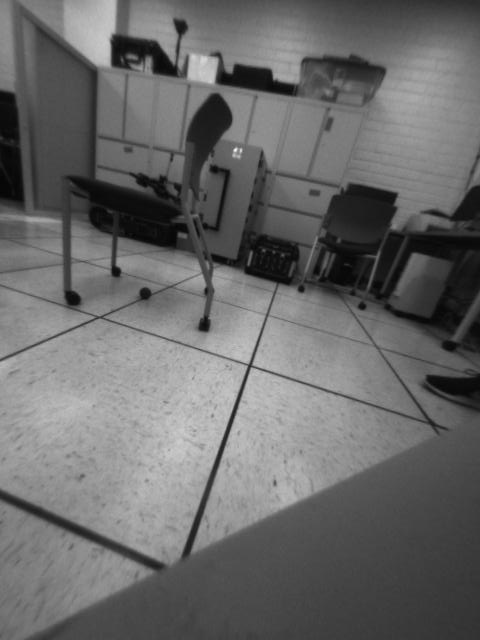dogtoy: (135, 280, 158, 303)
